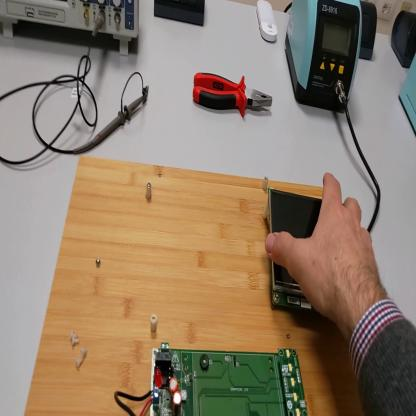hand: (267, 172, 382, 327)
low voltage board: (115, 343, 311, 416)
oscilloscope: (1, 3, 142, 54)
oscilloscope probe tip: (76, 94, 145, 151)
pliers: (192, 67, 274, 120)
socket: (393, 10, 416, 67), (360, 1, 380, 61)
welder base: (397, 56, 416, 136)
welder station: (286, 1, 365, 116)
working area: (25, 155, 364, 413)
